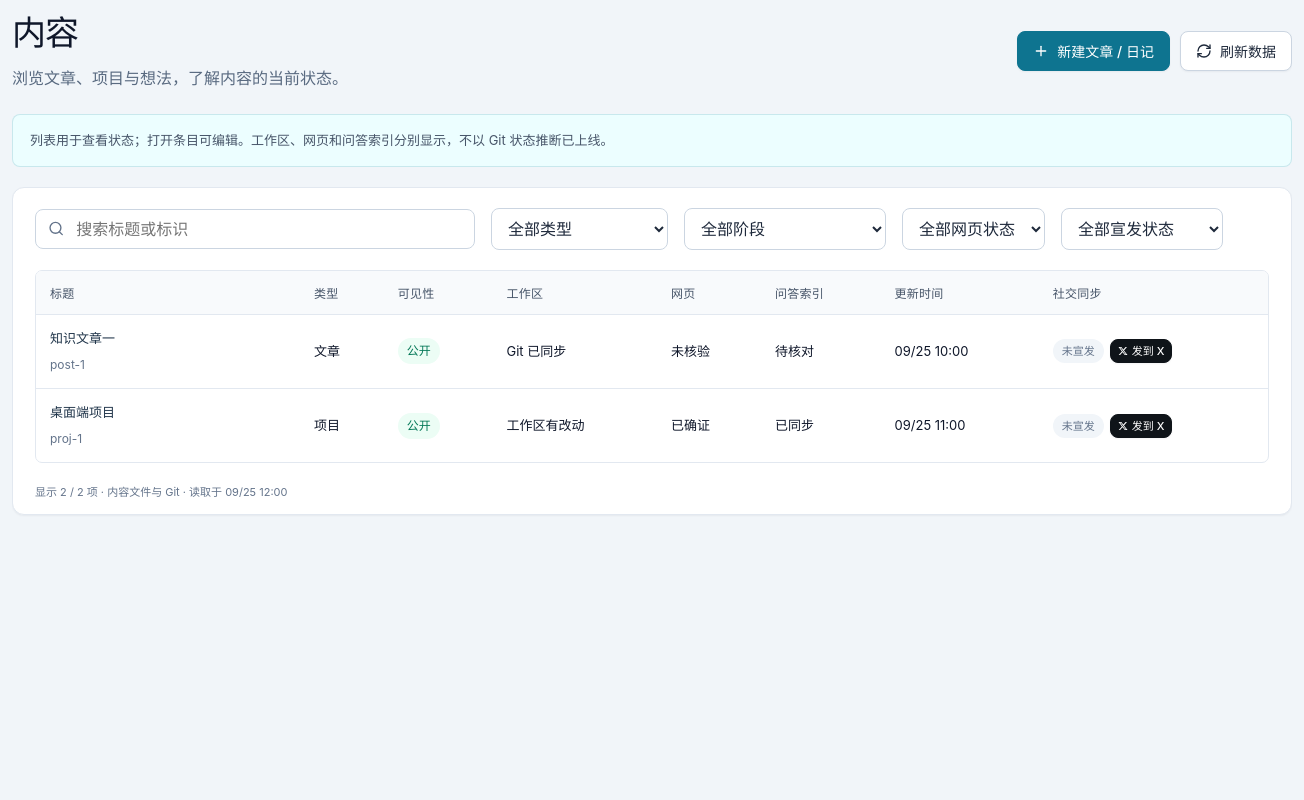
Test case: ContentListPage (C22 类型筛选与小店内容边界) › 筛选小店类型无内容时展示小店边界声明与未接入空态
Select "小店 (shop)" in the dropdown named "内容类型" at (580, 229), box [491,208,668,250]
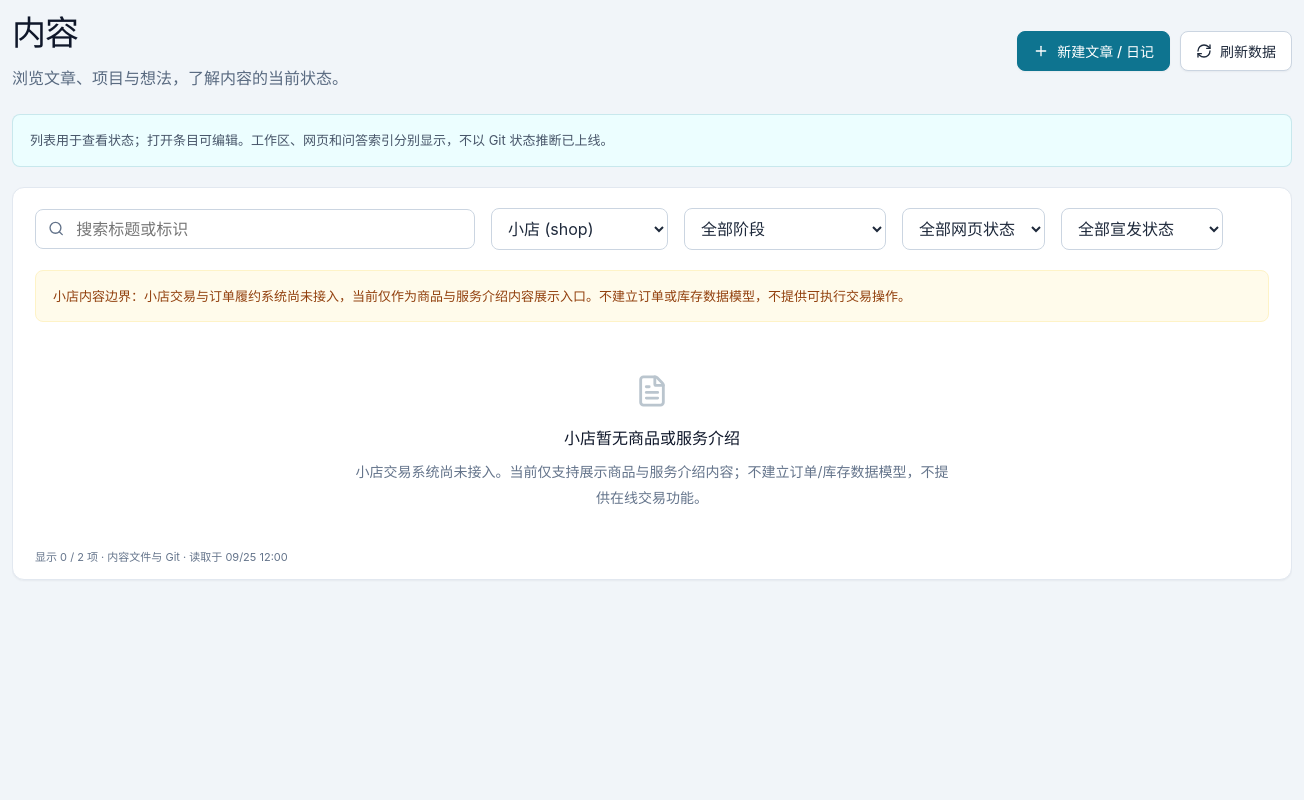
Result: the text "小店内容边界" is shown at [53,288,131,304]
Result: the text "不建立订单或库存数据模型，不提供可执行交易操作" is shown at [131,288,911,304]
Result: the text "小店暂无商品或服务介绍" is shown at [564,426,740,450]
